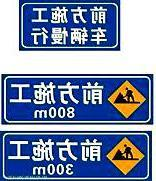sign: (3, 75, 151, 123), (1, 132, 149, 180), (21, 2, 118, 48)
